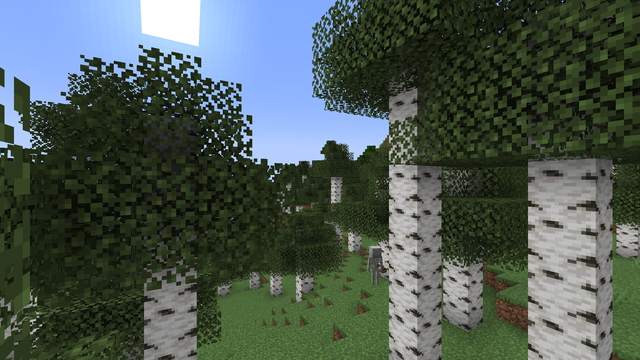squelettes: (367, 245, 383, 287)
